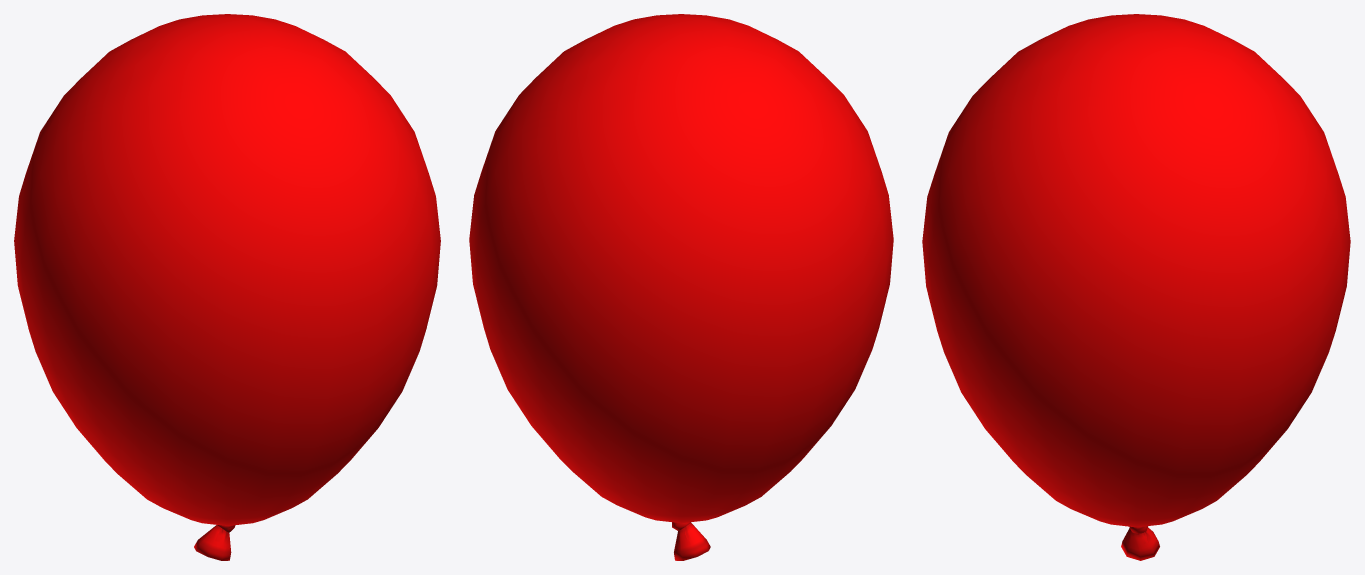
File: balloon.glb
The picture shows the model from 3 angles, left to right: view 1: azimuth 30°, elevation 25°; view 2: azimuth 150°, elevation 25°; view 3: azimuth 270°, elevation 25°; orthographic projection.
Parts seen in each view (by area): view 1: Object_3, Object_4; view 2: Object_3, Object_4; view 3: Object_3, Object_4.
Boxes of the visible parts, x1,y1,x2,y2 form: Object_3: (14,14,440,525); Object_4: (194,525,235,560); Object_3: (469,14,893,523); Object_4: (672,522,710,560); Object_3: (922,14,1350,527); Object_4: (1121,526,1159,560).
Size of the model in its own units: 33.24 by 45.01 by 33.24.
Materials: 3 (3 with a texture image).
